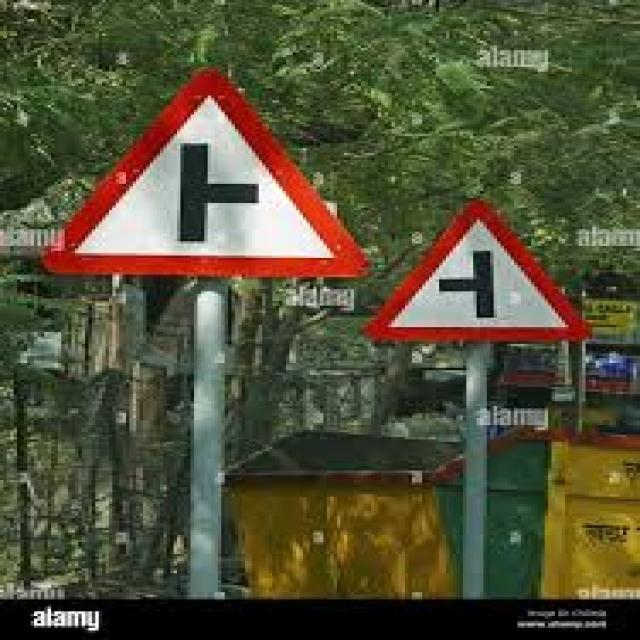side road right: (44, 64, 373, 284)
